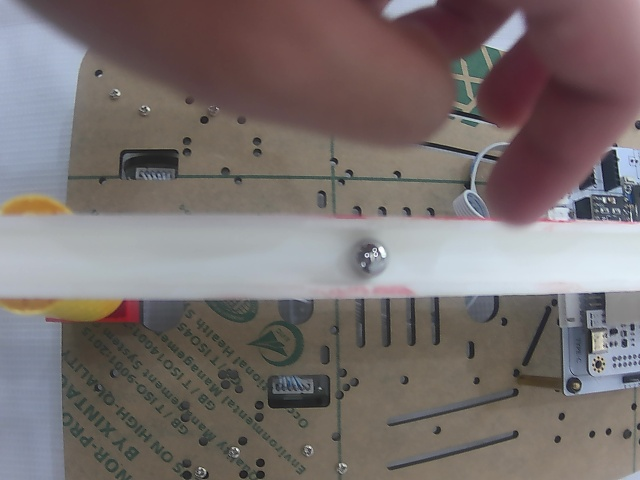steelball: (350, 238, 390, 277)
